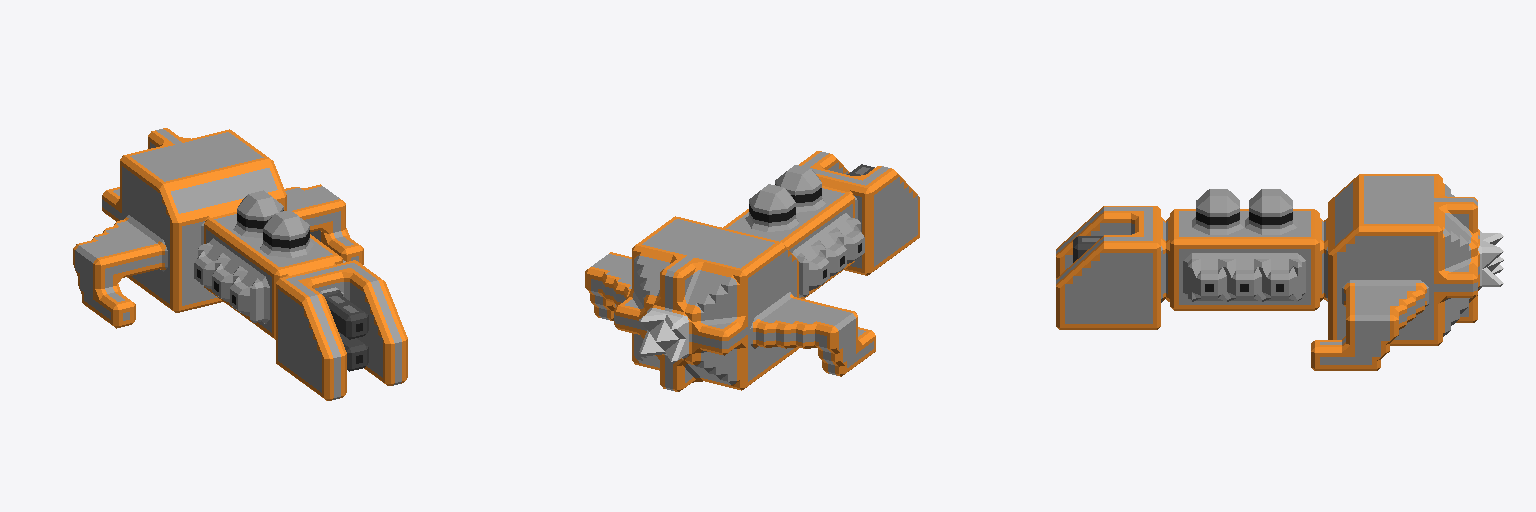
The picture shows the model from 3 angles: view 1: azimuth 30°, elevation 25°; view 2: azimuth 150°, elevation 25°; view 3: azimuth 270°, elevation 25°; orthographic projection.
Size of the model in its own units: 33 by 16 by 51.
1 materials, 1 textured.